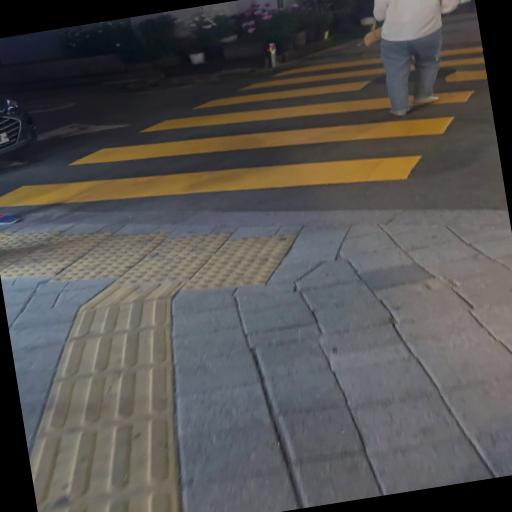yellow-crosswalk: (0, 28, 501, 251)
